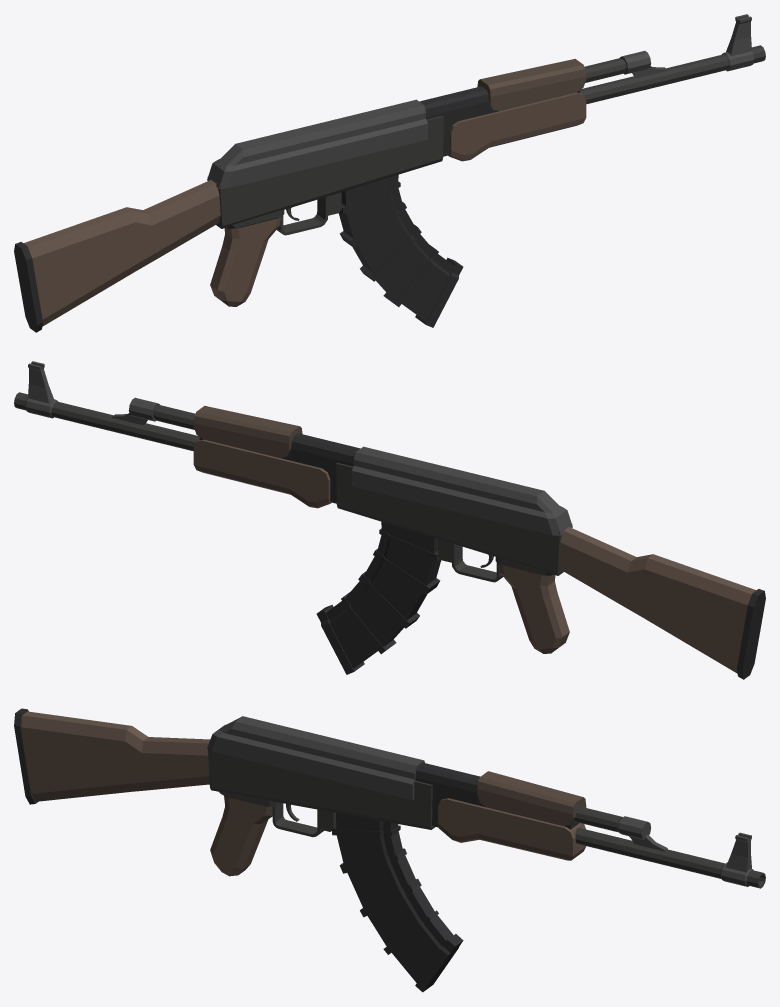
3 renders of one model, top to bottom at view 1: azimuth 30°, elevation 25°; view 2: azimuth 150°, elevation 25°; view 3: azimuth 330°, elevation 25°, orthographic.
Visible parts, largest first — view 1: AssaultRifle_2; view 2: AssaultRifle_2; view 3: AssaultRifle_2.
Part boxes in pixels (x1=…): AssaultRifle_2: x1=14, y1=14, x2=765, y2=332; AssaultRifle_2: x1=14, y1=361, x2=765, y2=679; AssaultRifle_2: x1=14, y1=708, x2=765, y2=992.
Bounding box in the file's own units: 5.42 × 1.6 × 0.196.
